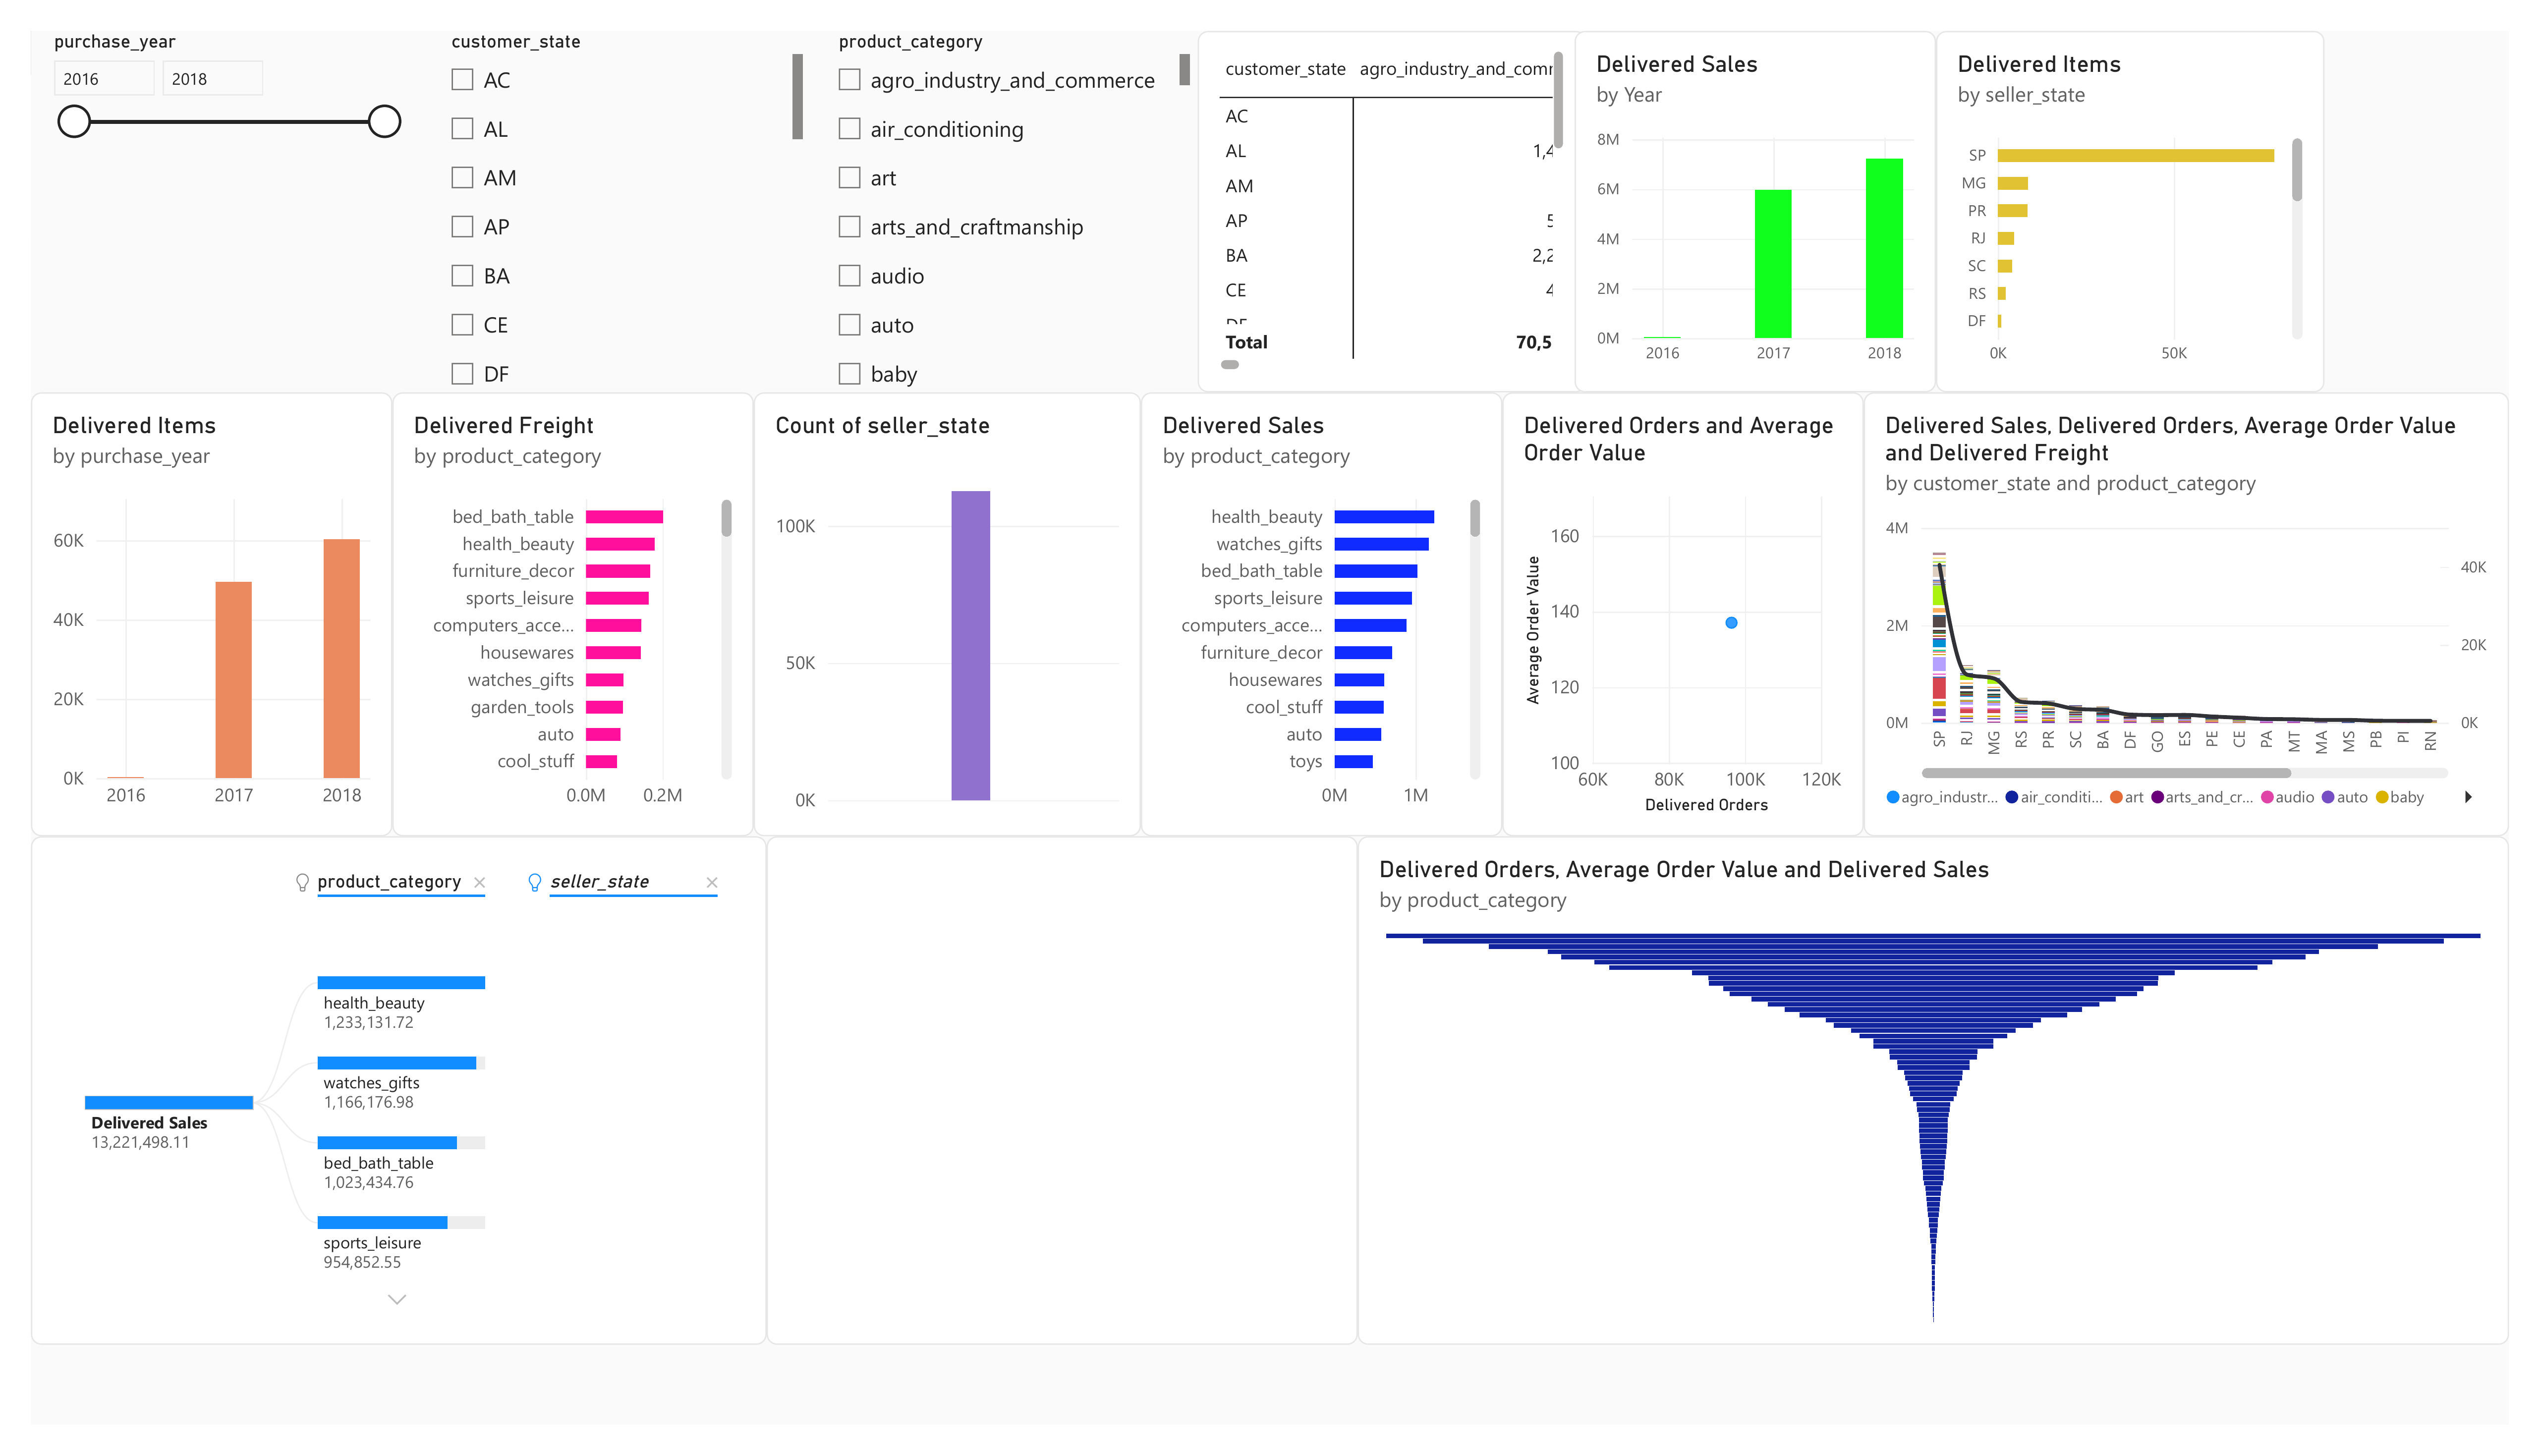

What the dashboard file says about the page in this screenshot:
{"tool":"powerbi","page":{"name":" Interactive Analysis","canvas":[1920,1080],"ordinal":3},"visuals":[{"type":"slicer","fields":{"Values":["SalesAnalysis.purchase_year"]},"box":[48.3,186.7,191.7,155],"z":0},{"type":"slicer","fields":{"Values":["SalesAnalysis.customer_state"]},"box":[48.3,358.3,191.7,263.3],"z":1000},{"type":"slicer","fields":{"Values":["SalesAnalysis.product_category"]},"box":[46.7,635,192,371.6],"z":2000},{"type":"clusteredBarChart","fields":{"Category":["SalesAnalysis.product_category"],"Y":["SalesAnalysis.Delivered Freight"]},"box":[266.3,532.6,499.6,437.7],"z":7000},{"type":"donutChart","fields":{"Category":["SalesAnalysis.customer_state"],"Y":["SalesAnalysis.Delivered Sales"]},"box":[1156.1,532.6,763.9,439.7],"z":9000},{"type":"pivotTable","fields":{"Columns":["SalesAnalysis.customer_state"],"Rows":["SalesAnalysis.product_category"],"Values":["SalesAnalysis.Freight to Sales %"]},"box":[765.9,532.6,390.2,437.7],"z":10000},{"type":"funnel","fields":{"Category":["SalesAnalysis.product_category"],"Y":["SalesAnalysis.Delivered Orders"]},"box":[1156.1,156.9,763.9,375.7],"z":11000},{"type":"decompositionTreeVisual","fields":{"Analyze":["SalesAnalysis.Average Order Value"],"ExplainBy":["SalesAnalysis.product_category","SalesAnalysis.customer_state"]},"box":[266.3,156.9,889.8,373.7],"z":12000}]}

Visuals, with their boxes in screenshot pixels (x1, y1, x2, y2), scaled from the page's 1920x1080 canvas onto the 2540x1456 screenshot:
slicer - SalesAnalysis.purchase_year: 64 252 318 461
slicer - SalesAnalysis.customer_state: 64 483 318 838
slicer - SalesAnalysis.product_category: 62 856 316 1357
clusteredBarChart - SalesAnalysis.product_category x SalesAnalysis.Delivered Freight: 352 718 1013 1308
donutChart - SalesAnalysis.customer_state x SalesAnalysis.Delivered Sales: 1529 718 2540 1311
pivotTable - SalesAnalysis.customer_state x SalesAnalysis.product_category: 1013 718 1529 1308
funnel - SalesAnalysis.product_category x SalesAnalysis.Delivered Orders: 1529 212 2540 718
decompositionTreeVisual - SalesAnalysis.Average Order Value x SalesAnalysis.product_category: 352 212 1529 715
